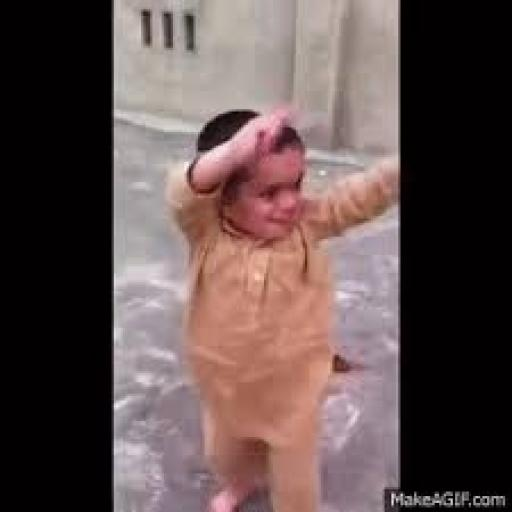dancing: (162, 104, 398, 510)
